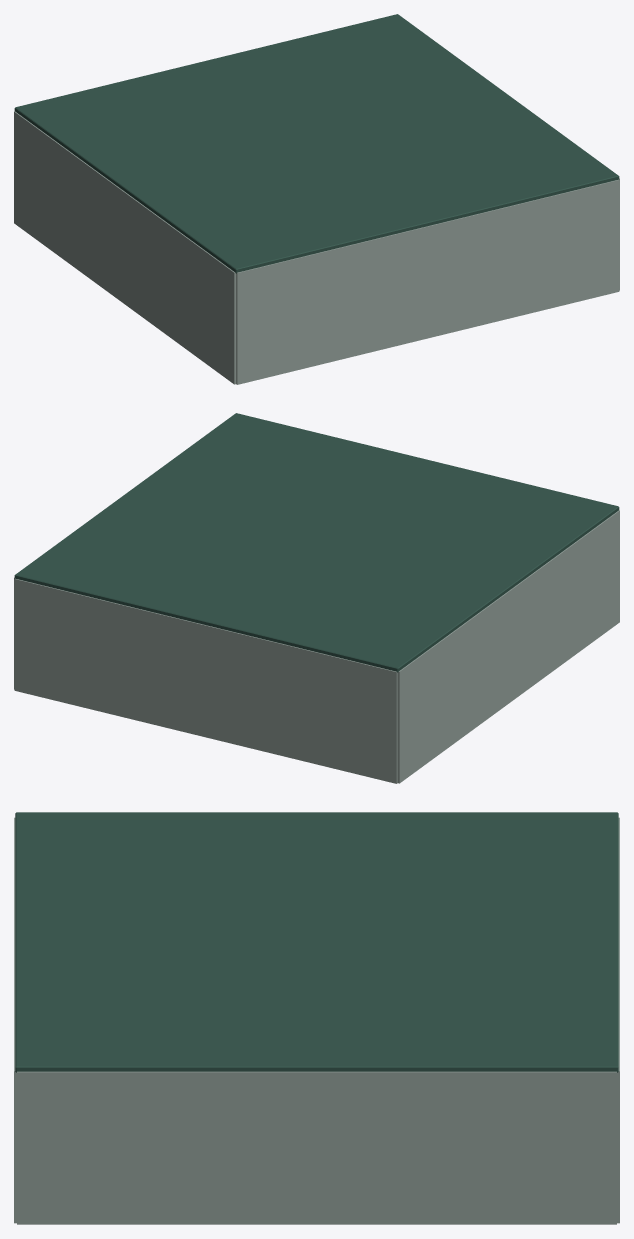
The model's file is owned-project-archive.glb.
3 views of the same model, one above another, from view 1: azimuth 30°, elevation 25°; view 2: azimuth 150°, elevation 25°; view 3: azimuth 270°, elevation 25° (orthographic). The views are drawn at different scales.
Parts seen in each view (by area): view 1: Oxide, Library plaster; view 2: Oxide, Library plaster; view 3: Oxide, Library plaster.
Part boxes in pixels (x1,y1,x2,y2): Oxide: (14,14,619,273); Library plaster: (14,111,619,384); Oxide: (14,413,619,672); Library plaster: (14,510,619,783); Oxide: (15,812,618,1072); Library plaster: (14,817,619,1224).
Size of the model in its own units: 12.2 by 3.49 by 12.2.
